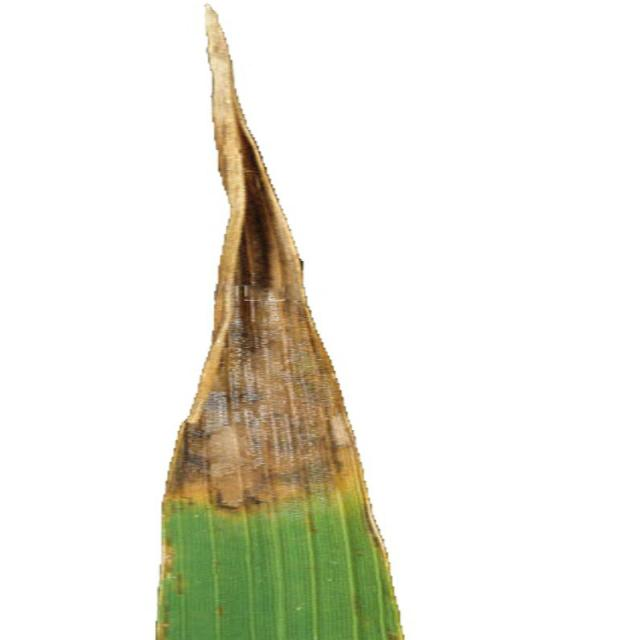Leaf scald: (137, 0, 426, 640)
